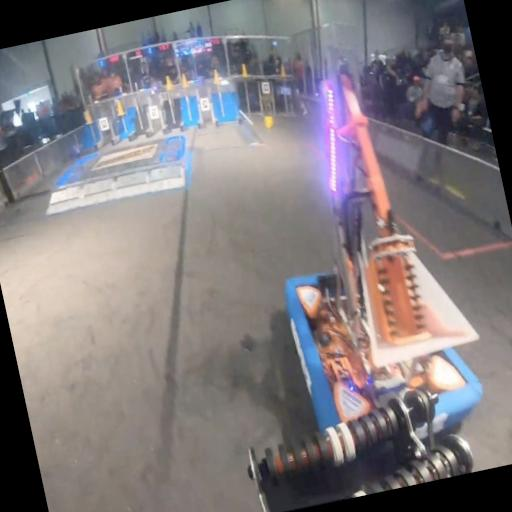robot: (232, 27, 492, 462)
